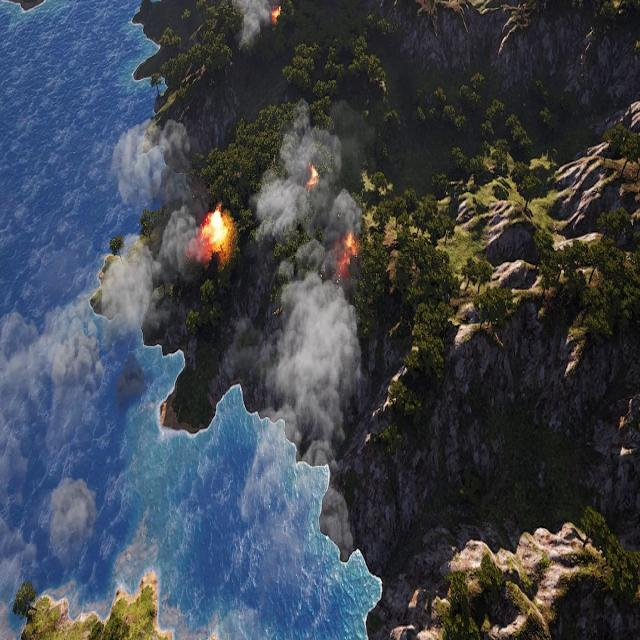fire: (201, 208, 231, 254), (336, 233, 359, 280), (307, 166, 320, 190), (272, 4, 282, 23)
smoke: (0, 120, 207, 640), (230, 101, 373, 518), (231, 0, 280, 50)
